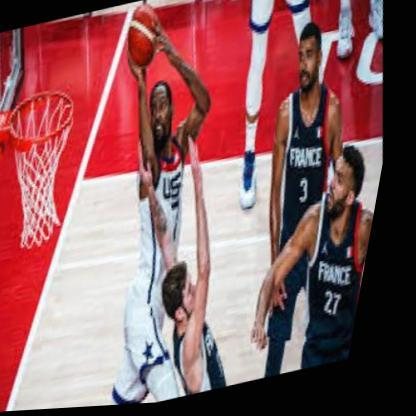basketball: (118, 0, 169, 72)
rim: (5, 84, 88, 153)
